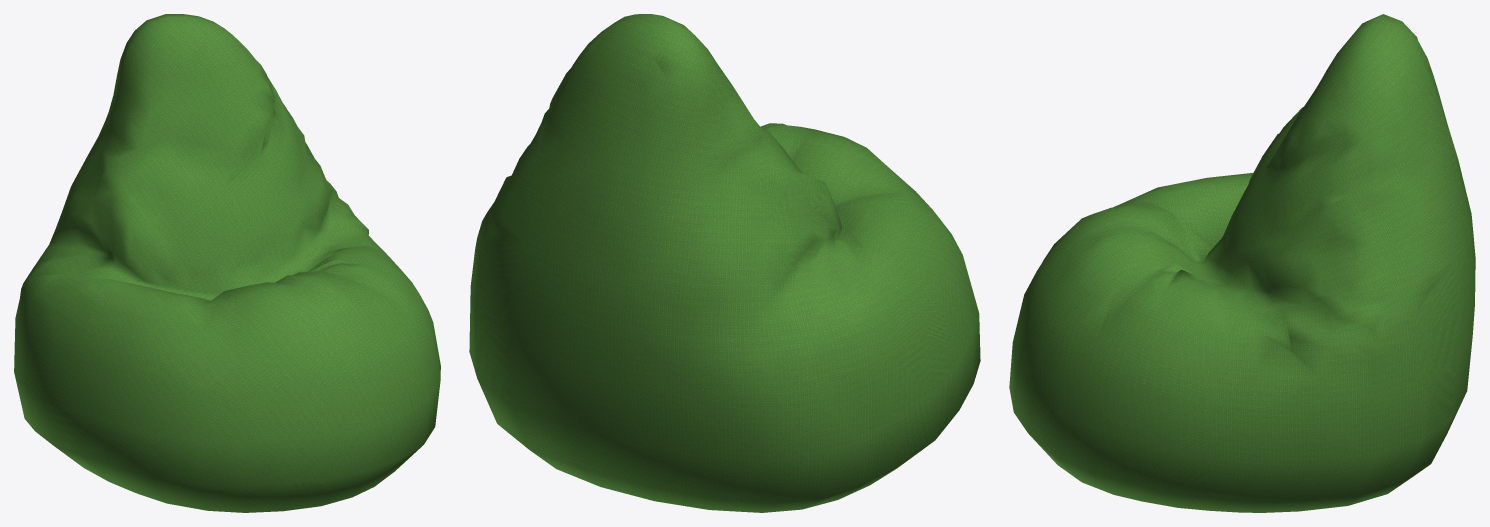
File: puphick.FBX
The picture shows the model from 3 angles, left to right: view 1: azimuth 30°, elevation 25°; view 2: azimuth 150°, elevation 25°; view 3: azimuth 270°, elevation 25°; orthographic projection. The views are drawn at different scales.
Parts seen in each view (by area): view 1: puphick; view 2: puphick; view 3: puphick.
Boxes of the visible parts, x1,y1,x2,y2 form: puphick: (14, 14, 440, 512); puphick: (469, 14, 980, 512); puphick: (1009, 14, 1475, 512).
Bounding box in the file's own units: 1.04 × 1.1 × 1.07.
Materials: 1 (1 with a texture image).
